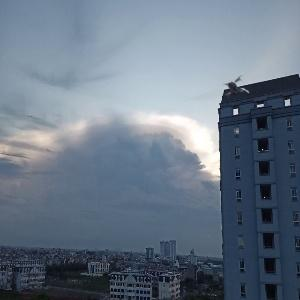drone: (220, 74, 256, 110)
